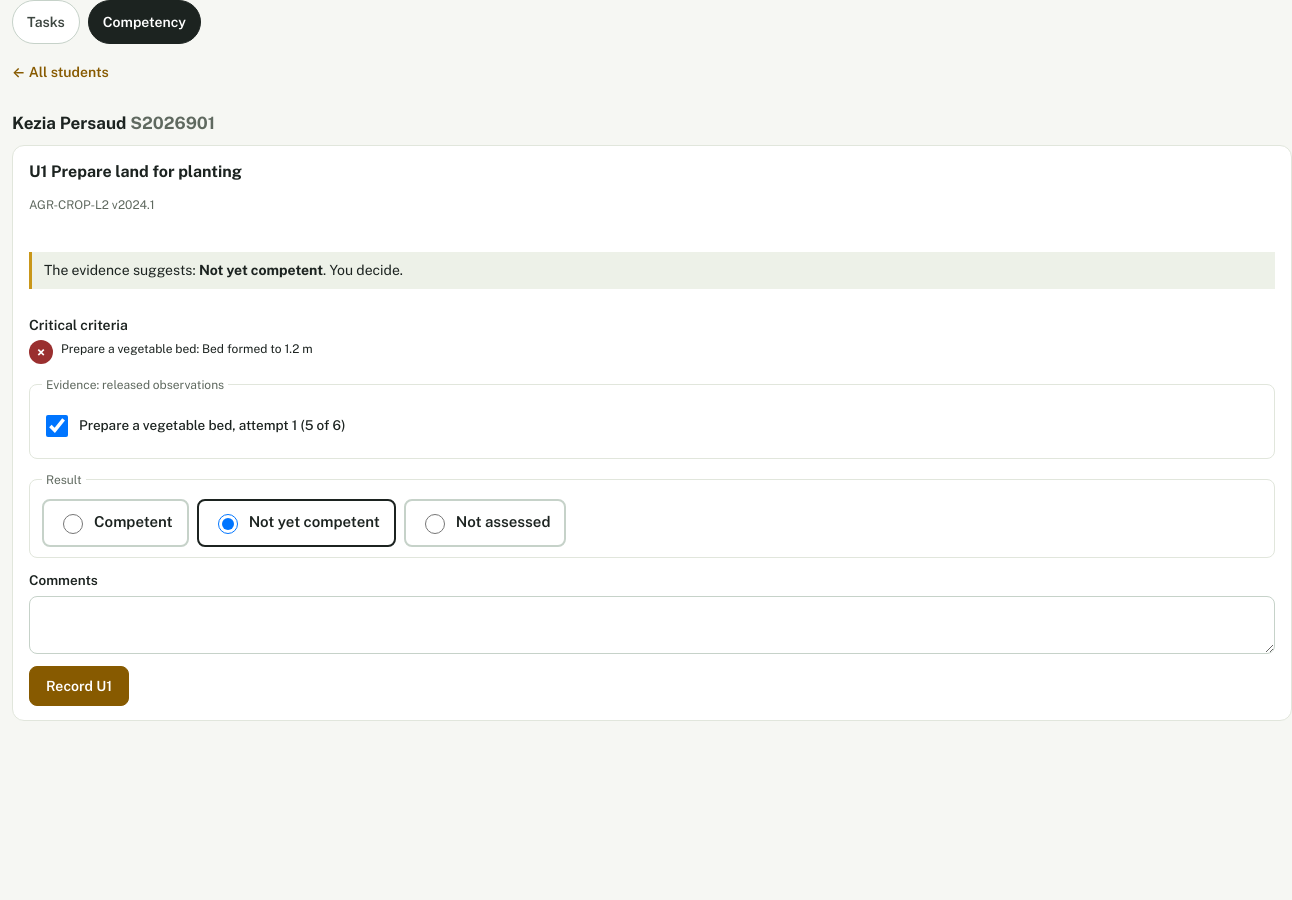
Test: competency for assessors (item 3.13) › records a result, and shows the server's reason when competent is refused
Expected: the text "Not yet competent" is shown, left=199, top=262, right=323, bottom=278
Expected: the checkbox labelled "Prepare a vegetable bed, attempt 1 (5 of 6)" is checked, left=46, top=414, right=68, bottom=436
Click the radio button labelled "Competent". click: (73, 524)
box: left=63, top=514, right=83, bottom=534
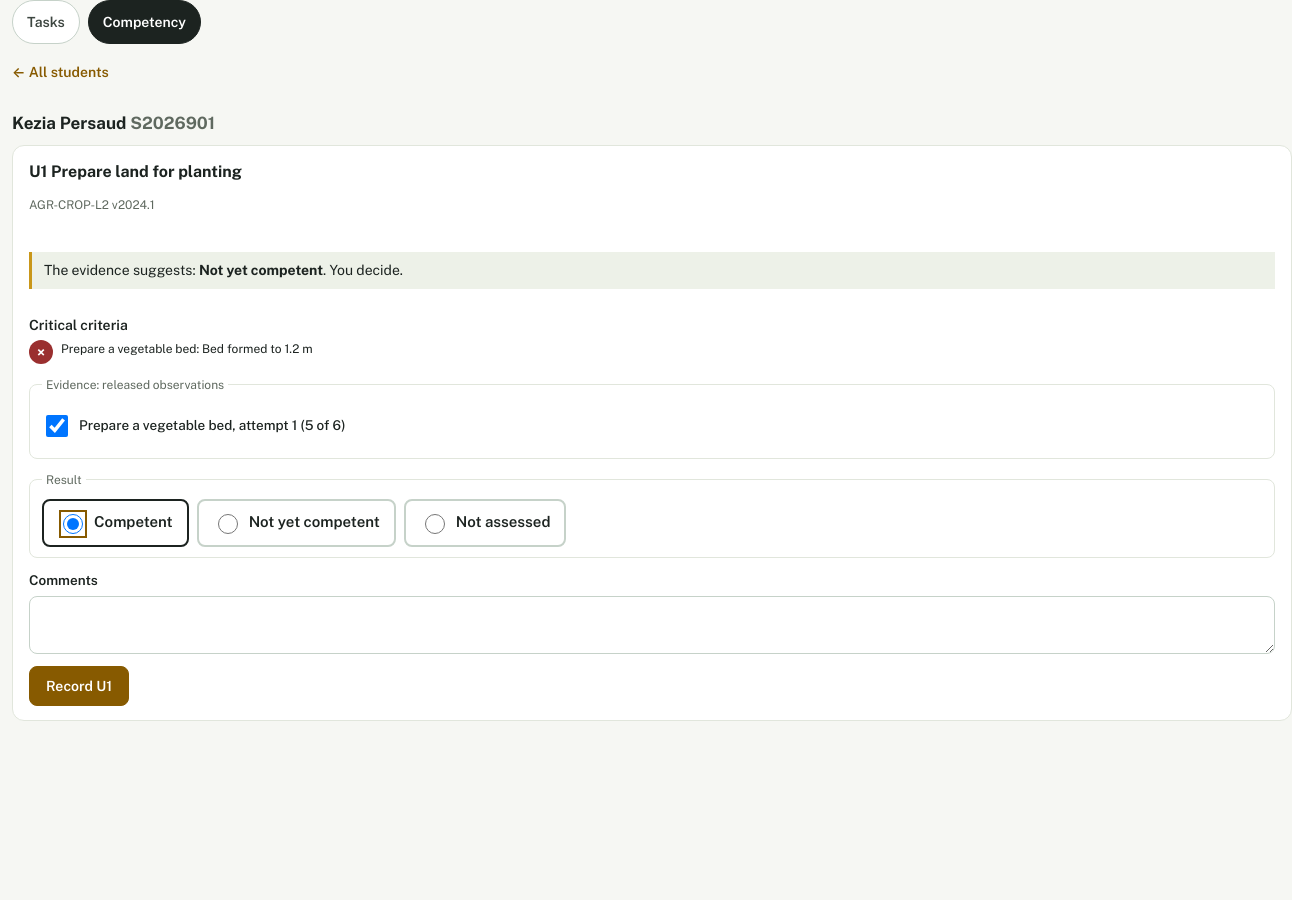
Click the button "Record U1". click: (79, 686)
box: left=29, top=666, right=129, bottom=706
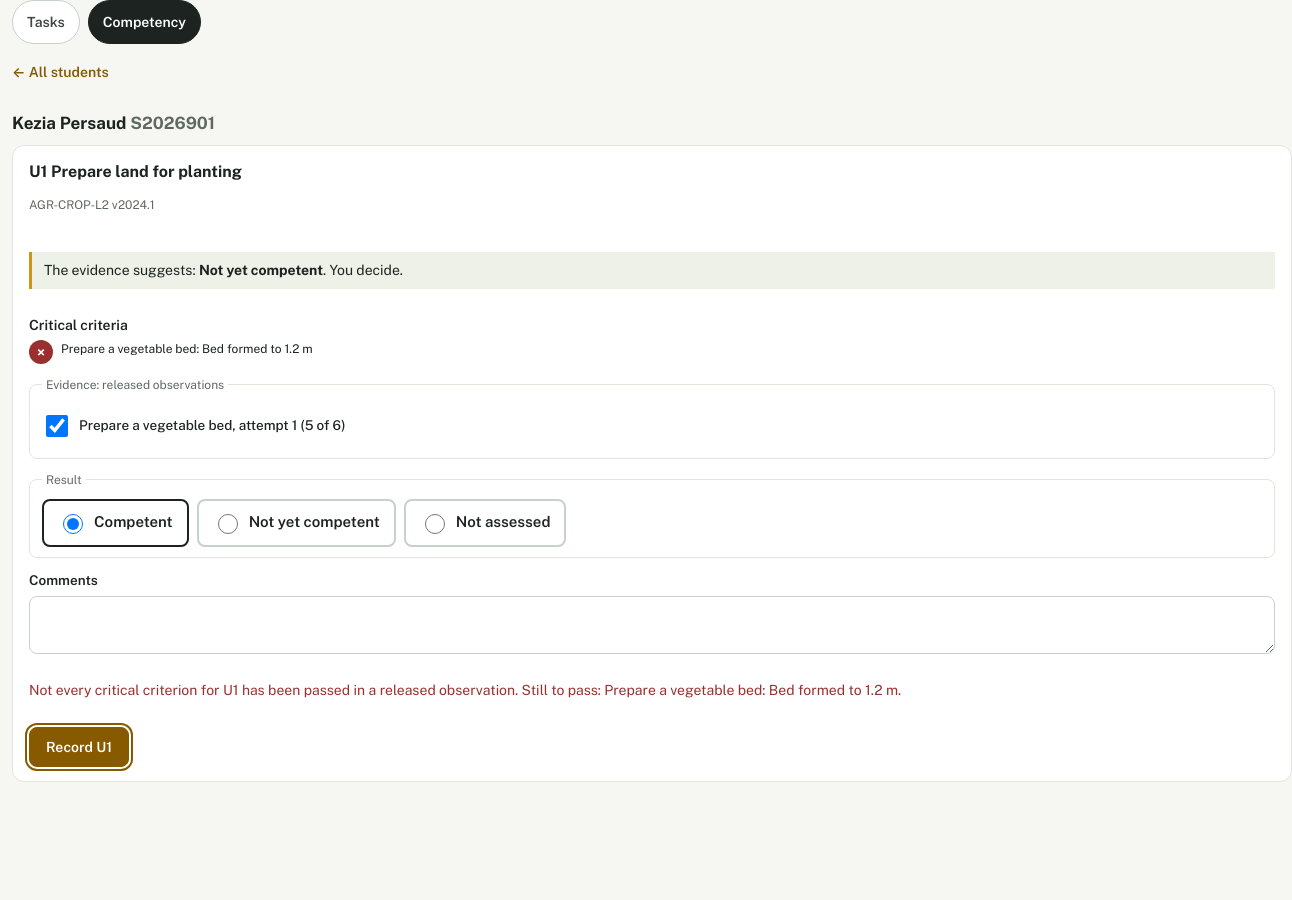
Expected: the message shows "Still to pass: Prepare a vegetable bed: Bed formed to 1.2 m.", left=29, top=682, right=901, bottom=698
Click the radio button labelled "Not yet competent". click: (228, 524)
box: left=218, top=514, right=238, bottom=534
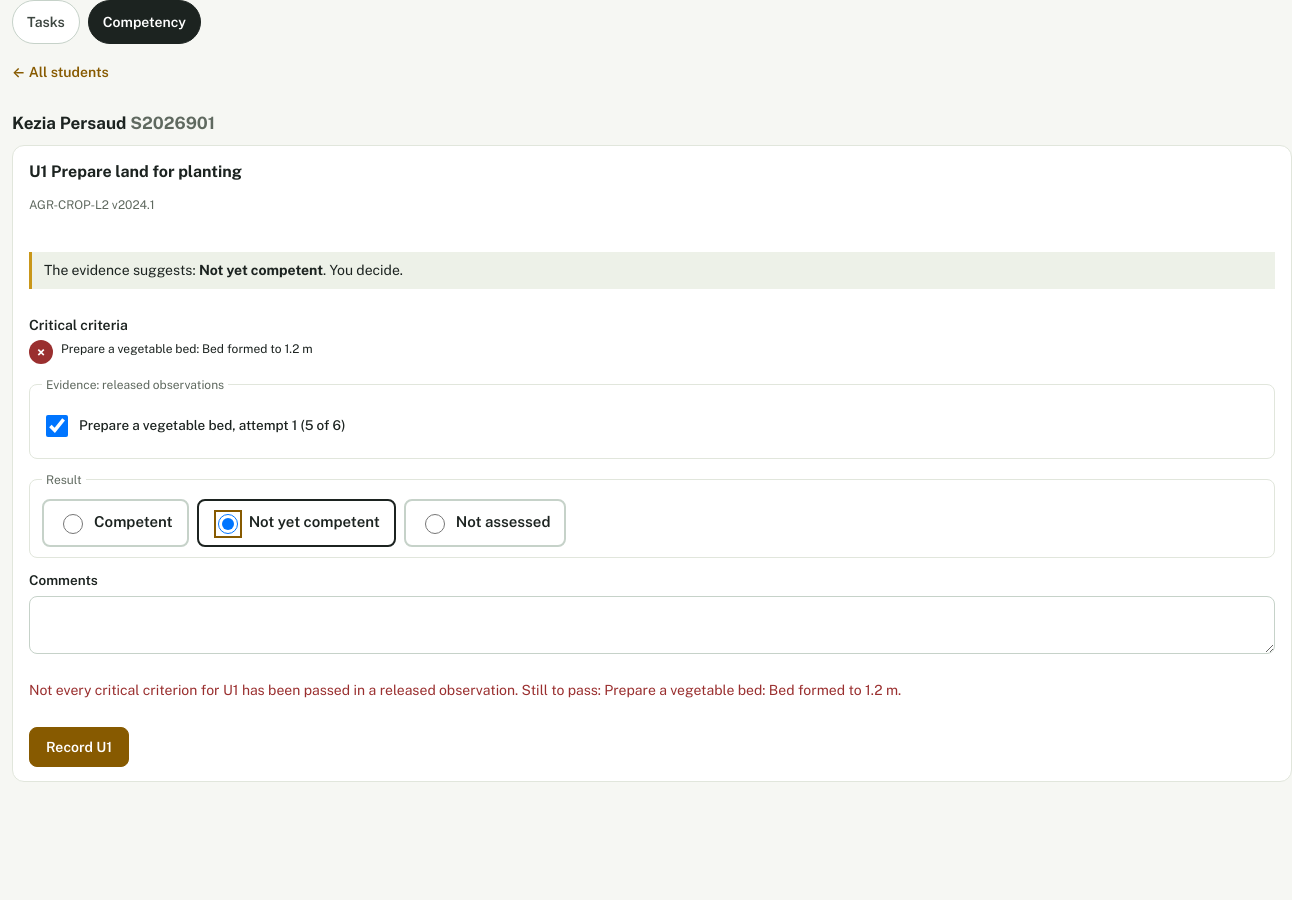
Type "Bed too narrow; reassess next week." into the text box labelled "Comments". click: (652, 625)
box: left=29, top=596, right=1275, bottom=654
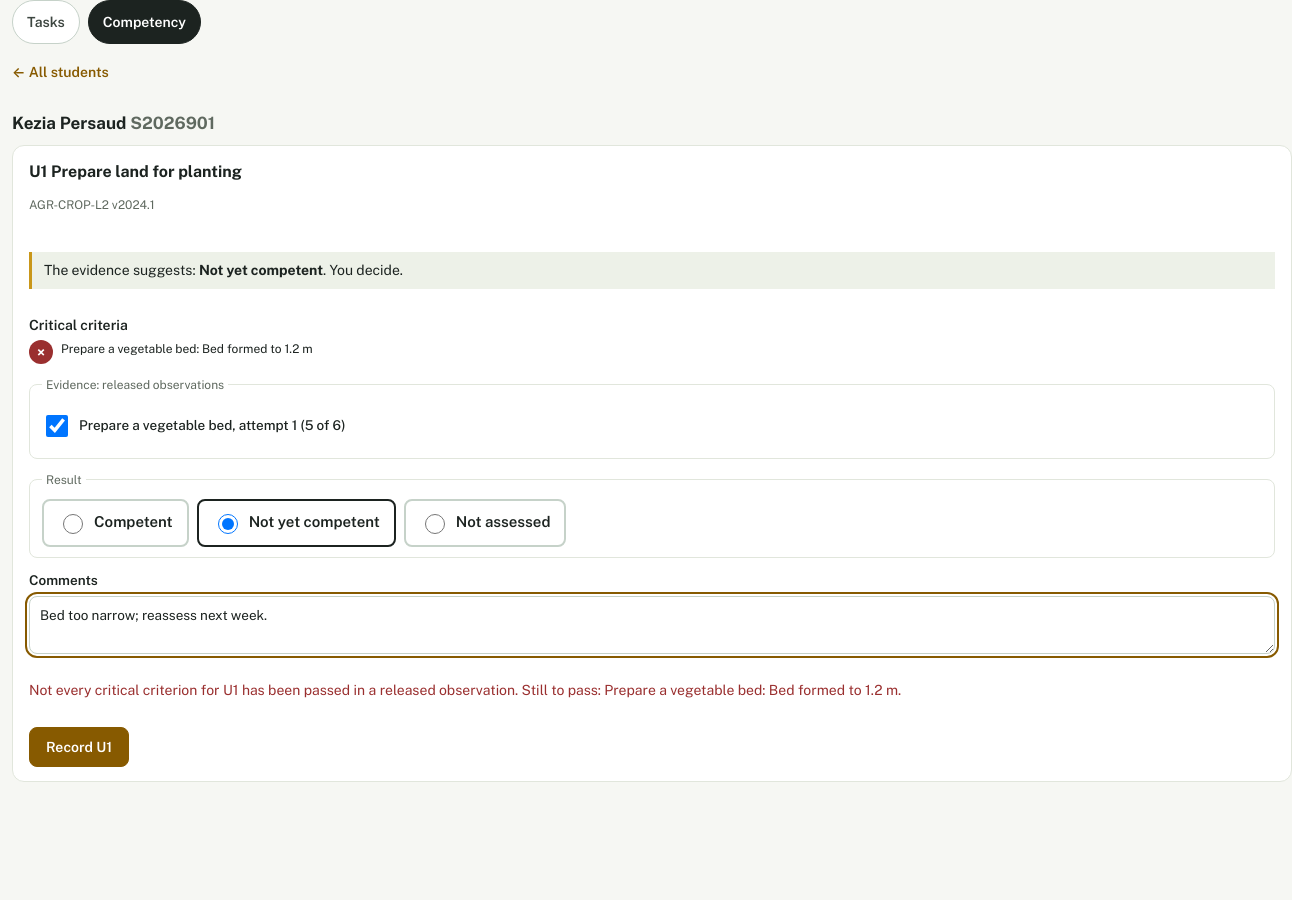
Click the button "Record U1". click: (79, 747)
box: left=29, top=727, right=129, bottom=767
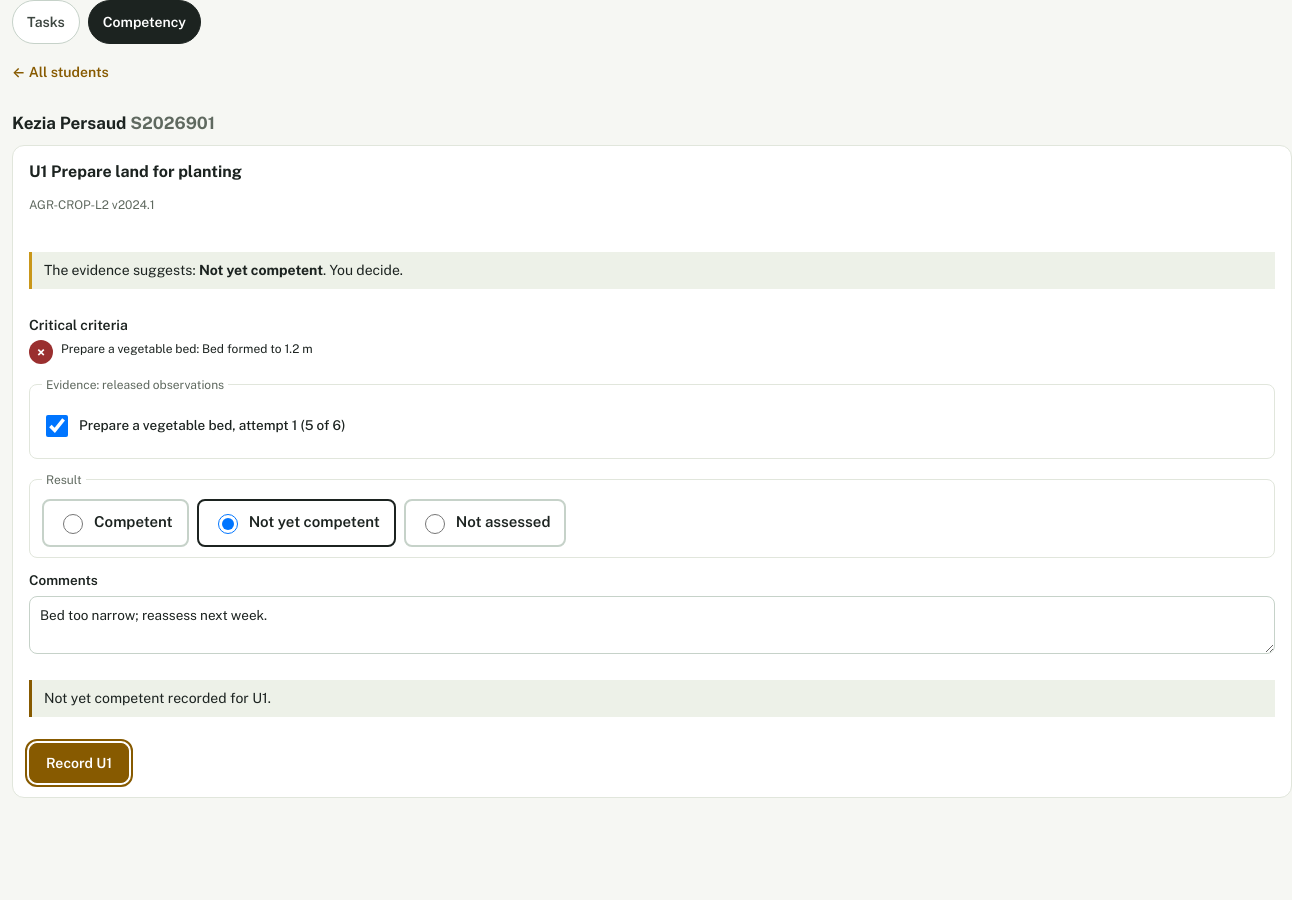
Expected: the message reads "Not yet competent recorded for U1.", left=44, top=690, right=271, bottom=706
